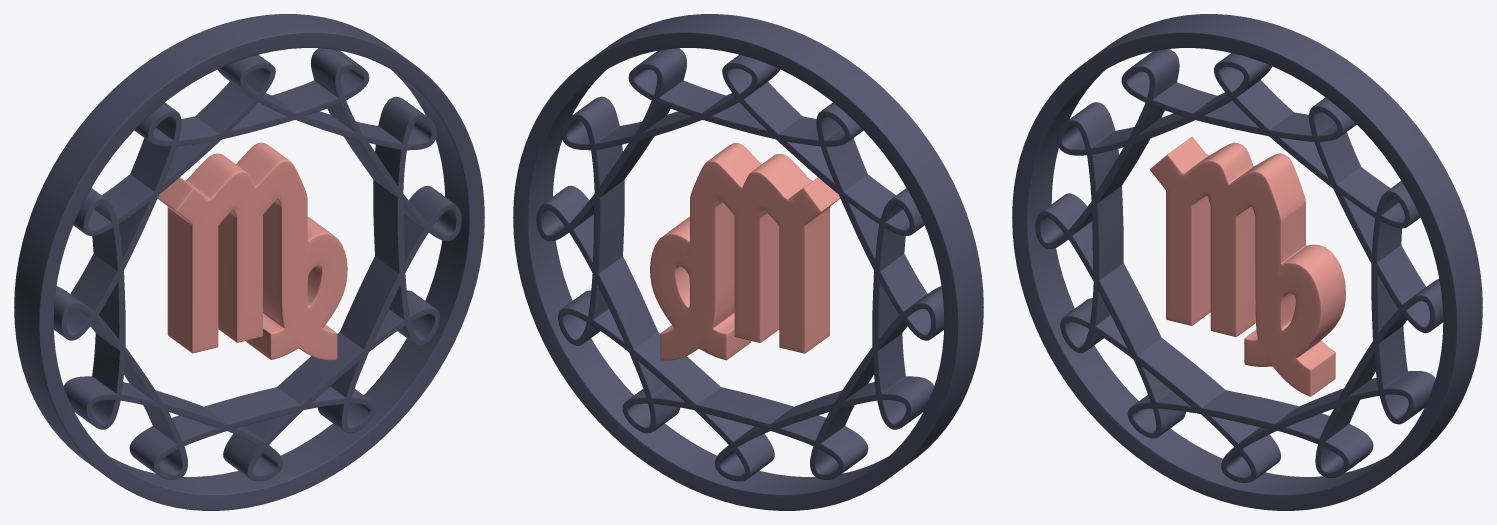
File: badrpost-virgo-4798.glb
The picture shows the model from 3 angles, left to right: view 1: azimuth 30°, elevation 25°; view 2: azimuth 150°, elevation 25°; view 3: azimuth 330°, elevation 25°; orthographic projection.
Visible parts, largest first — view 1: Embellishments frame, circle frame, 06 Virgo The Virgin_sign; view 2: Embellishments frame, circle frame, 06 Virgo The Virgin_sign; view 3: Embellishments frame, circle frame, 06 Virgo The Virgin_sign.
Boxes of the visible parts, x1,y1,x2,y2 form: Embellishments frame: (53,48,461,481); circle frame: (14,14,484,510); 06 Virgo The Virgin_sign: (157,142,347,360); Embellishments frame: (536,48,944,481); circle frame: (513,14,983,510); 06 Virgo The Virgin_sign: (650,143,840,360); Embellishments frame: (1035,49,1443,482); circle frame: (1012,14,1482,510); 06 Virgo The Virgin_sign: (1150,137,1345,396).
Bounding box in the file's own units: 0.2631 × 0.263 × 0.026.
